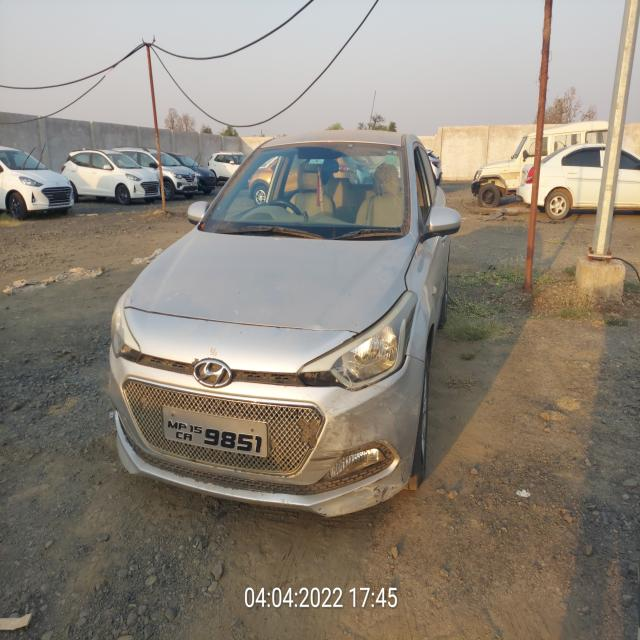damage: (358, 442, 417, 507), (326, 391, 408, 436), (312, 443, 344, 474), (311, 502, 334, 520)
